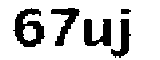6: (9, 7, 47, 49)
7: (49, 6, 81, 47)
j: (112, 7, 139, 60)
u: (82, 15, 114, 51)
